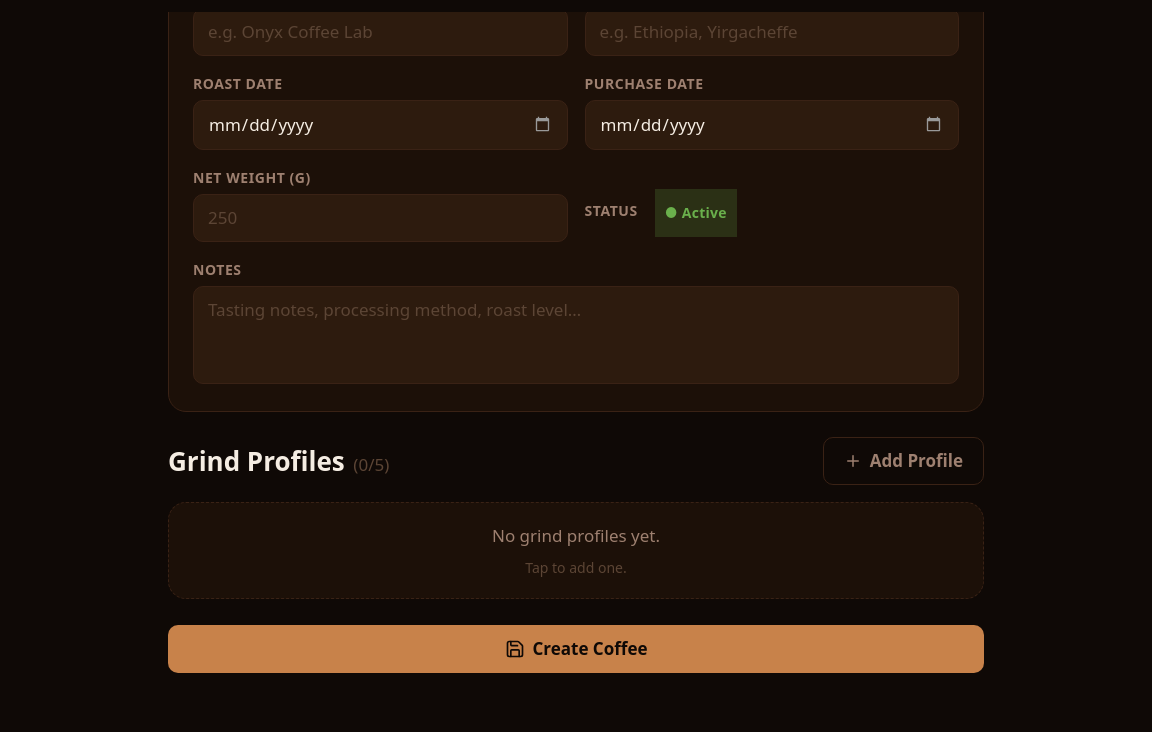
Test case: CoffeeForm › create mode (no coffeeId) › shows validation error when name is empty on save
(page scrolled)
Click the button "Create Coffee": (576,649) [168,625,984,673]
(page scrolled)
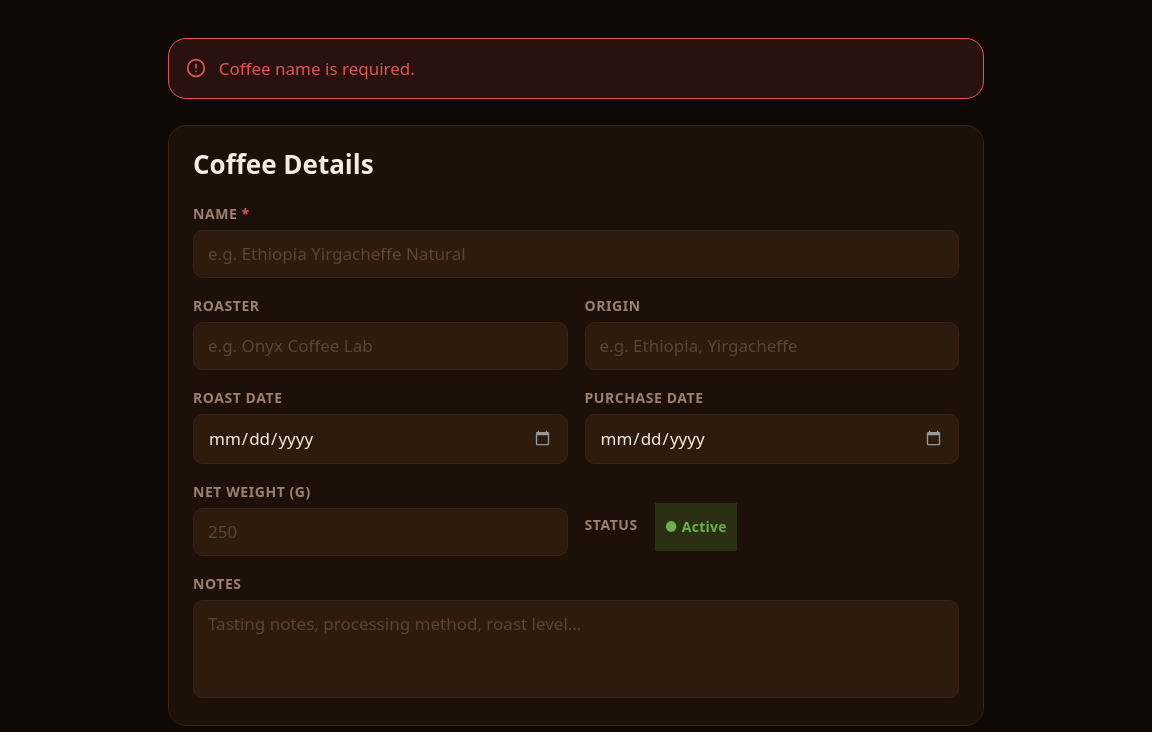
Expected: the text "Coffee name is required." is shown, [168,38,984,99]
